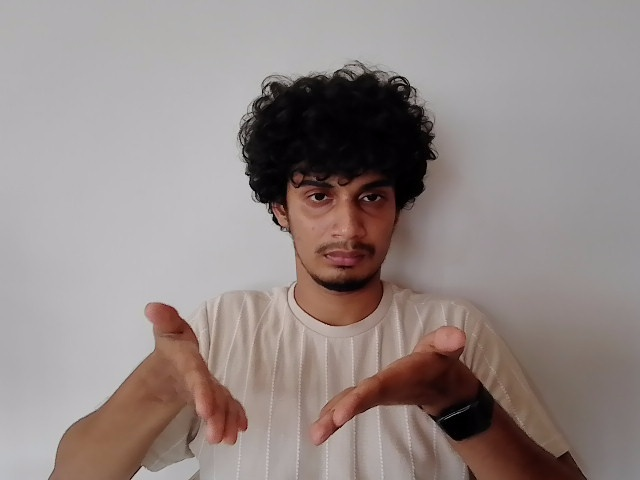here: (130, 302, 477, 452)
